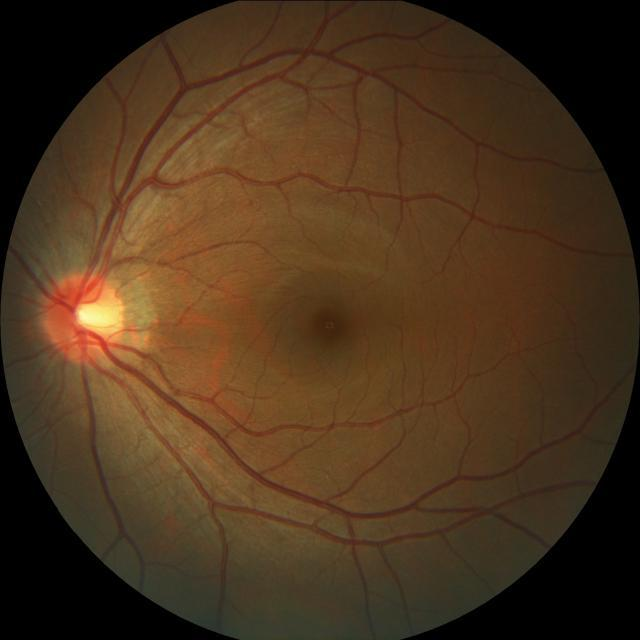OC: (74, 302, 116, 329)
OD: (44, 268, 127, 362)
